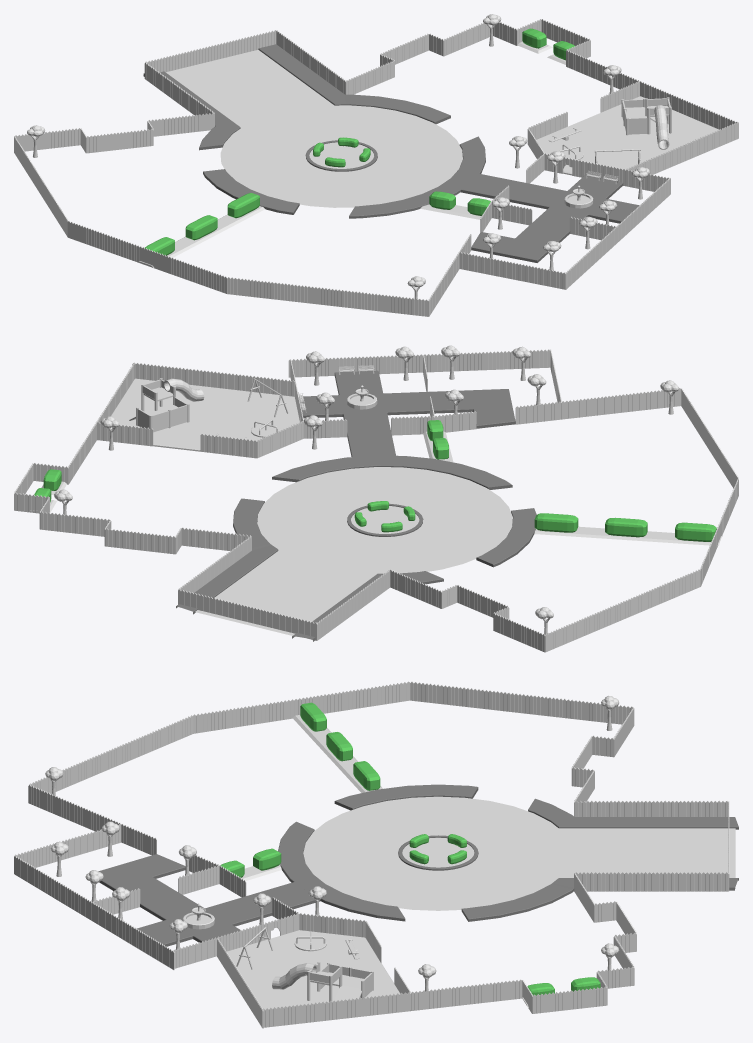
File: Stuff.fbx
3 views of the same model, one above another, from view 1: azimuth 30°, elevation 25°; view 2: azimuth 150°, elevation 25°; view 3: azimuth 270°, elevation 25° (orthographic). The views are drawn at different scales.
Parts seen in each view (by area): view 1: Map, Map.003; view 2: Map, Map.003; view 3: Map, Map.003.
Part boxes in pixels (box(x1,y1,x2,y2)): Map: box(27, 14, 719, 316); Map.003: box(14, 19, 738, 316); Map: box(30, 345, 722, 641); Map.003: box(14, 349, 738, 652); Map: box(28, 695, 738, 1010); Map.003: box(14, 681, 729, 1028).
Bounding box in the file's own units: 9671 × 491 × 9021.
